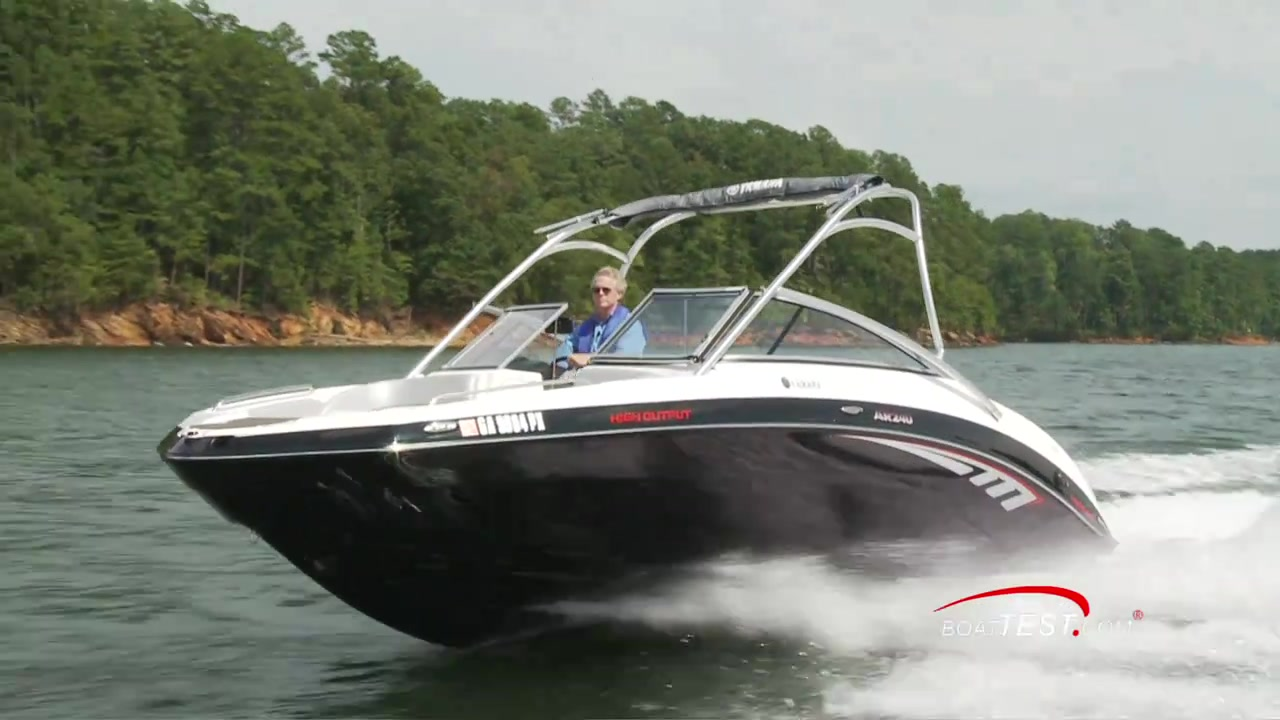boat: (148, 170, 1119, 663)
